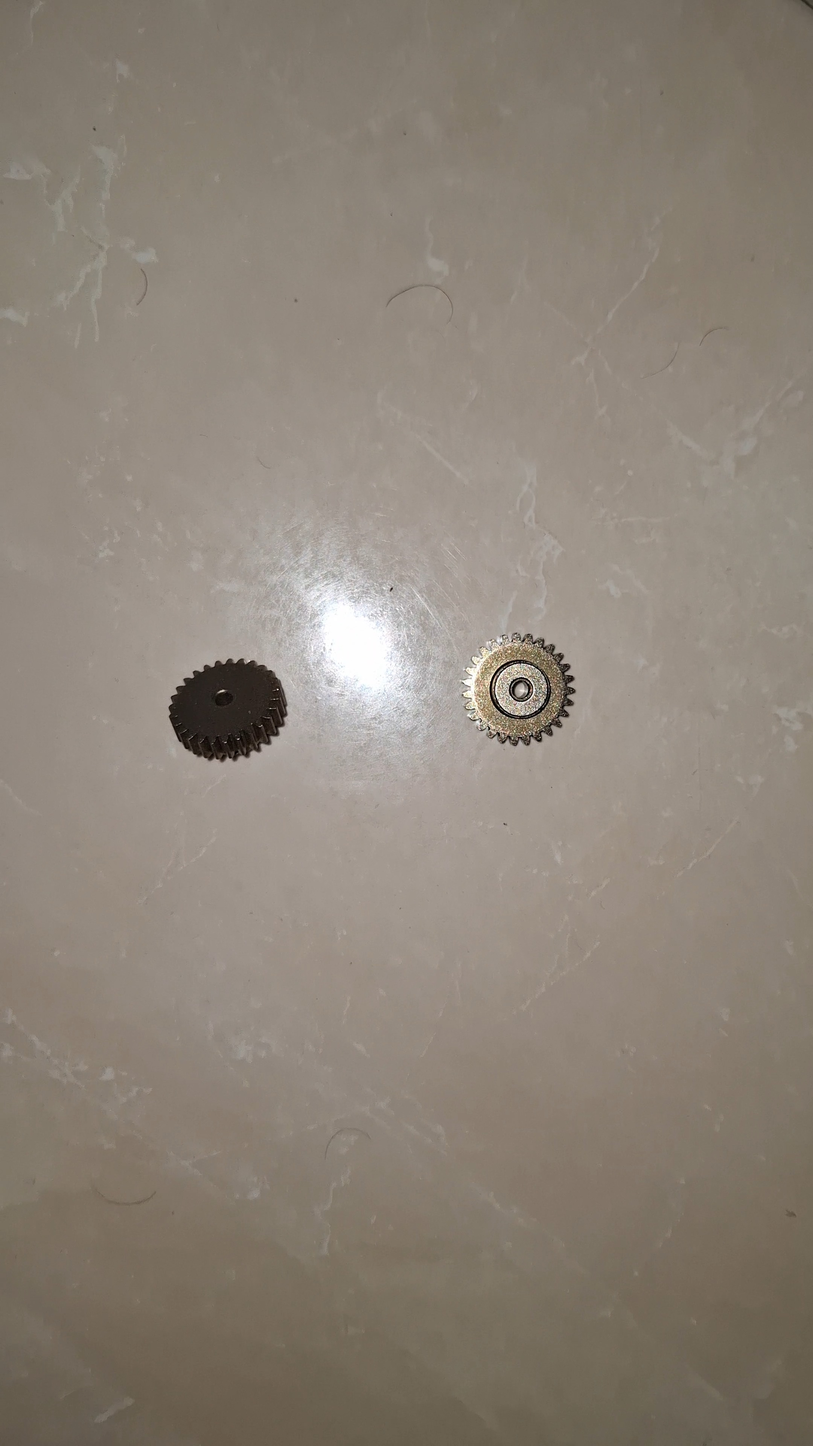spur gear: (463, 633, 574, 745), (169, 659, 286, 760)
